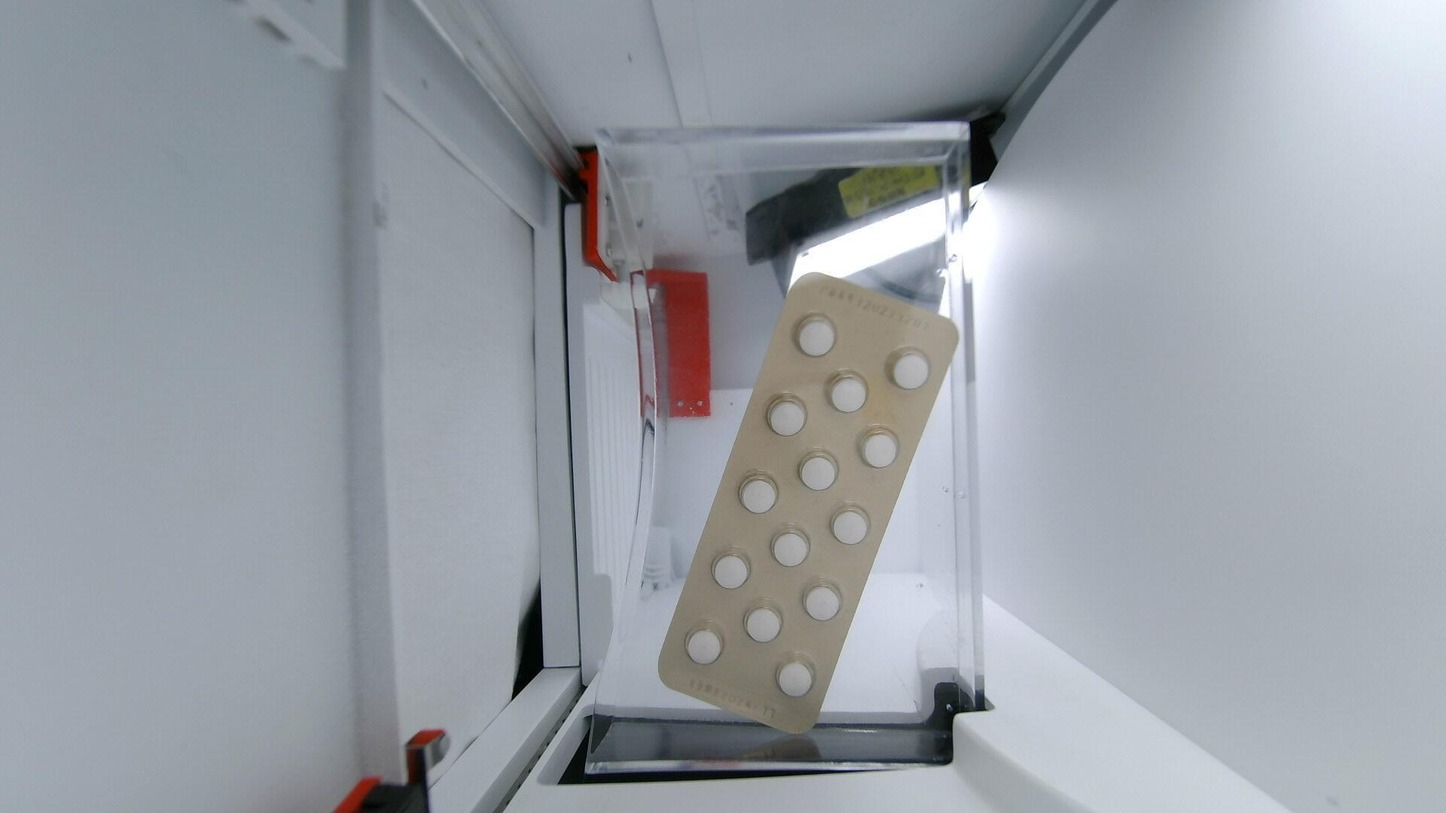Light Front: (660, 274, 959, 734)
Pill Front: (819, 367, 868, 412), (712, 551, 749, 589), (744, 606, 782, 643), (798, 317, 834, 356), (890, 352, 928, 388), (740, 475, 776, 513), (772, 531, 809, 567), (862, 430, 897, 467), (831, 509, 868, 544), (776, 661, 813, 696), (804, 585, 840, 620), (686, 629, 722, 664), (799, 456, 837, 489), (769, 399, 804, 434)
